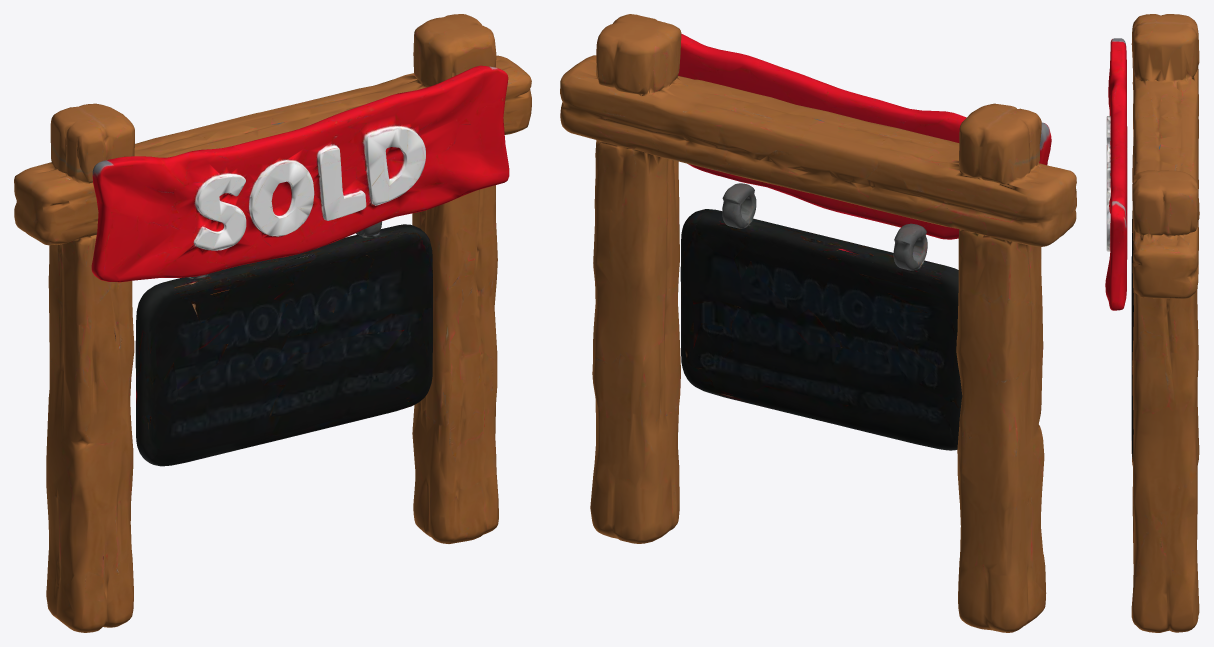
File: sold_sign.glb
3 renders of one model, left to right at view 1: azimuth 30°, elevation 25°; view 2: azimuth 150°, elevation 25°; view 3: azimuth 270°, elevation 25°, orthographic. The views are drawn at different scales.
Bounding box in the file's own units: 1.9 × 1.86 × 0.3567.
Materials: 1 (1 with a texture image).
